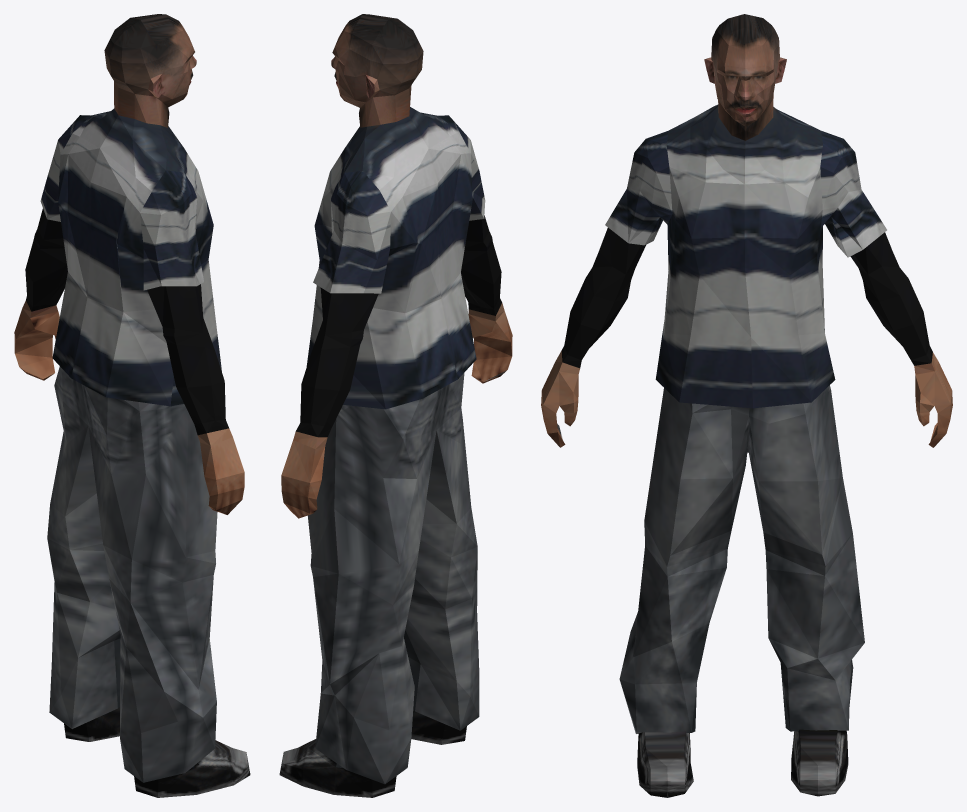
Rendered from vhmycr.obj.
The picture shows the model from 3 angles, left to right: view 1: azimuth 30°, elevation 25°; view 2: azimuth 150°, elevation 25°; view 3: azimuth 270°, elevation 25°; orthographic projection.
Parts seen in each view (by area): view 1: _Pelvis; view 2: _Pelvis; view 3: _Pelvis.
Boxes of the visible parts, bbox=[...] form: _Pelvis: bbox=[14, 14, 250, 797]; _Pelvis: bbox=[279, 14, 512, 797]; _Pelvis: bbox=[541, 14, 952, 797].
Bounding box in the file's own units: 0.3694 × 1.87 × 0.9308.
Materials: 1 (1 with a texture image).
